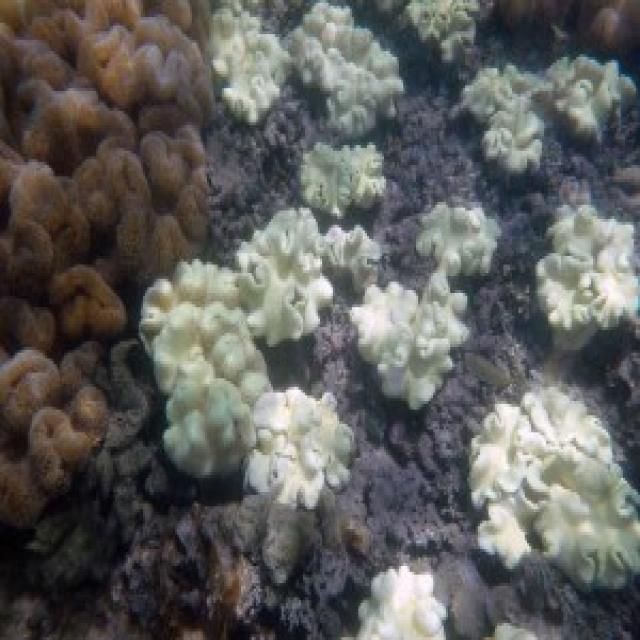Bleached: (468, 387, 640, 594), (140, 263, 270, 476), (350, 273, 475, 407), (285, 1, 402, 138), (536, 206, 637, 348), (238, 209, 332, 345), (251, 388, 353, 507), (457, 69, 549, 173), (212, 1, 287, 120), (351, 564, 447, 638), (302, 143, 385, 217), (417, 203, 500, 277), (323, 226, 381, 291)
Healthy: (1, 1, 212, 524)
